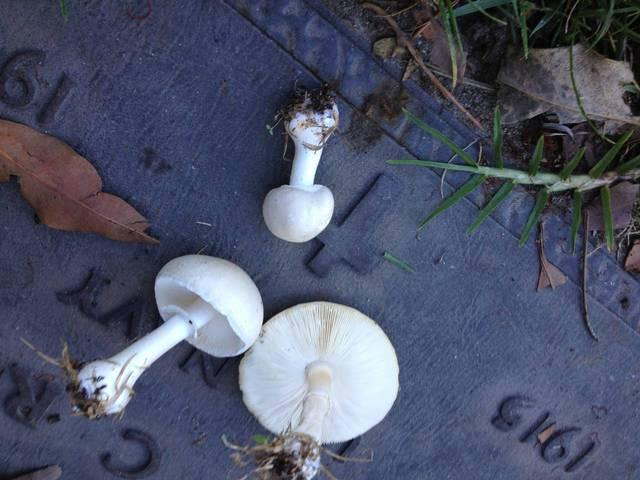poisonous_mushroom: (71, 252, 264, 419), (236, 299, 400, 479), (260, 86, 340, 243)
